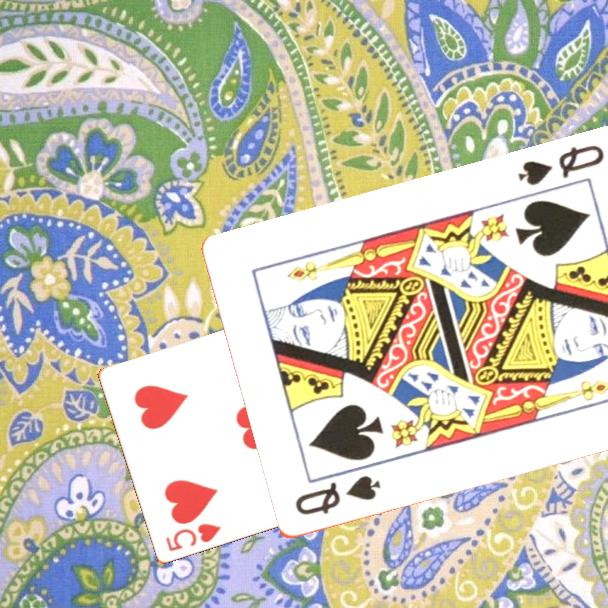h05: (162, 520, 224, 555)
s12: (513, 142, 607, 190), (291, 472, 384, 519)
